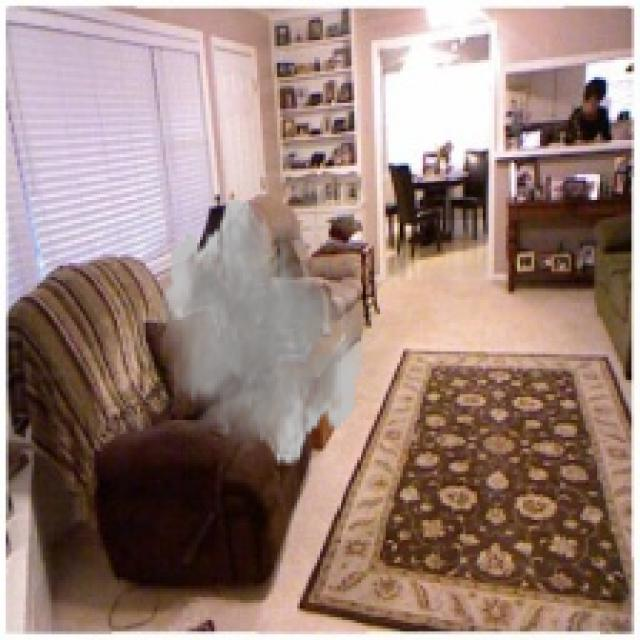smoke: (157, 194, 369, 469)
